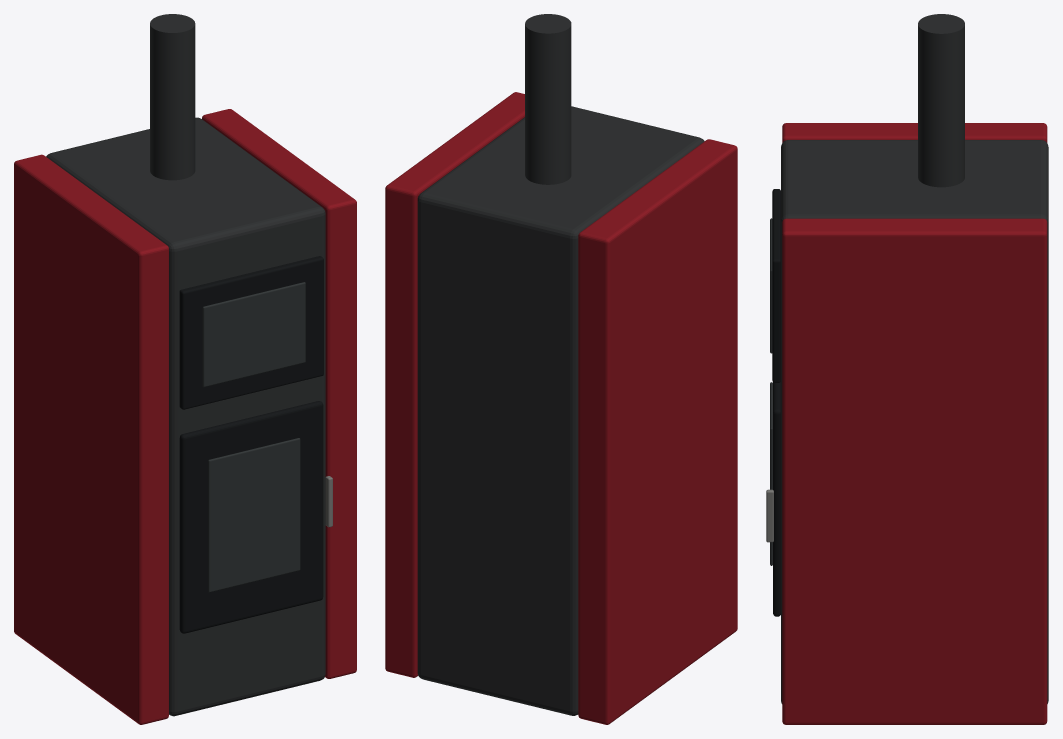
The model's file is nordica-nova-forno16-maiolica-bordeaux.glb.
3 renders of one model, left to right at view 1: azimuth 30°, elevation 25°; view 2: azimuth 150°, elevation 25°; view 3: azimuth 270°, elevation 25°, orthographic. The views are drawn at different scales.
Visible parts, largest first — view 1: Pannello laterale, Corpo.002, Pannello laterale.001, Porta.005, Vetro sportello.005, Sportello forno, Vetro forno, Scarico fumi.005; view 2: Corpo.002, Pannello laterale, Pannello laterale.001, Scarico fumi.005; view 3: Pannello laterale.001, Corpo.002, Scarico fumi.005, Pannello laterale, Porta.005, Sportello forno.
Boxes of the visible parts, x1=… form: Pannello laterale: x1=14, y1=154, x2=168, y2=724; Corpo.002: x1=46, y1=117, x2=325, y2=716; Pannello laterale.001: x1=202, y1=109, x2=356, y2=678; Porta.005: x1=179, y1=401, x2=323, y2=633; Vetro sportello.005: x1=208, y1=438, x2=300, y2=592; Sportello forno: x1=179, y1=256, x2=323, y2=409; Vetro forno: x1=202, y1=282, x2=305, y2=387; Scarico fumi.005: x1=150, y1=14, x2=195, y2=180; Corpo.002: x1=417, y1=106, x2=704, y2=715; Pannello laterale: x1=578, y1=139, x2=737, y2=724; Pannello laterale.001: x1=385, y1=92, x2=524, y2=677; Scarico fumi.005: x1=525, y1=14, x2=571, y2=184; Pannello laterale.001: x1=782, y1=218, x2=1047, y2=724; Corpo.002: x1=781, y1=140, x2=1048, y2=703; Scarico fumi.005: x1=918, y1=14, x2=964, y2=187; Pannello laterale: x1=782, y1=123, x2=1047, y2=142; Porta.005: x1=773, y1=381, x2=780, y2=616; Sportello forno: x1=772, y1=189, x2=780, y2=382.
Size of the model in its own units: 0.559 by 1.52 by 0.6.
